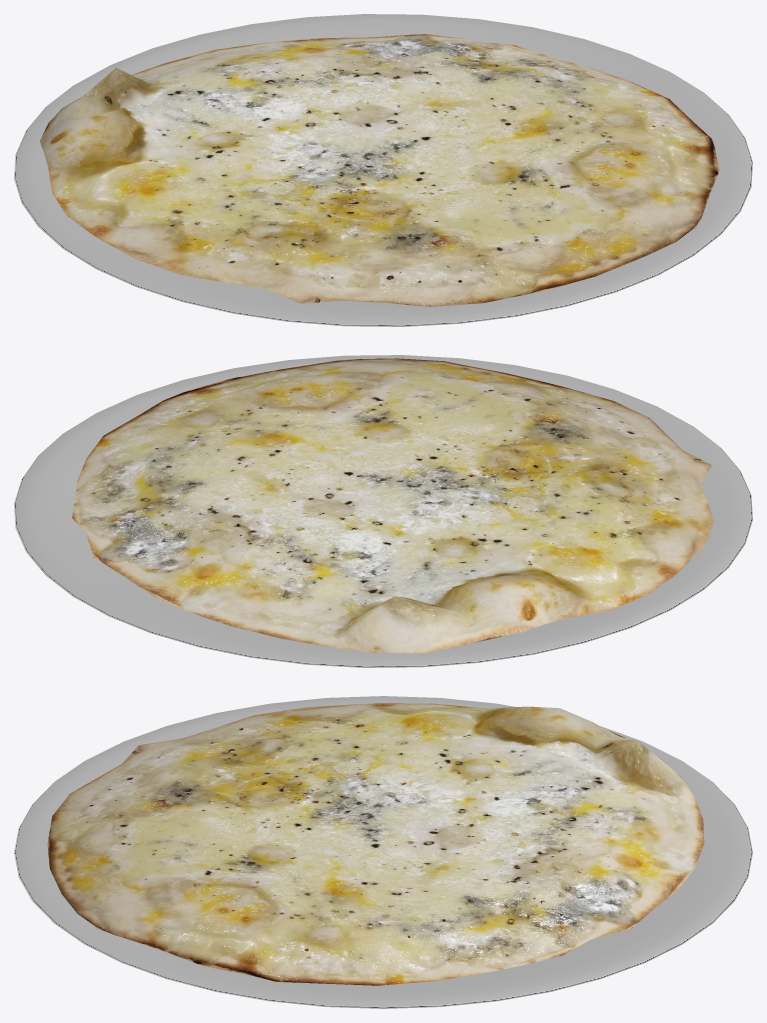
Rendered from pizza.fbx.
3 views of the same model, one above another, from view 1: azimuth 30°, elevation 25°; view 2: azimuth 150°, elevation 25°; view 3: azimuth 270°, elevation 25° (orthographic).
Parts seen in each view (by area): view 1: pizza_cheese_high; view 2: pizza_cheese_high; view 3: pizza_cheese_high.
Part boxes in pixels (box(x1,y1,x2,y2)): pizza_cheese_high: box(14, 14, 752, 326); pizza_cheese_high: box(14, 355, 752, 667); pizza_cheese_high: box(14, 696, 752, 1008).
Bounding box in the file's own units: 2.98 × 0.2599 × 2.98.
